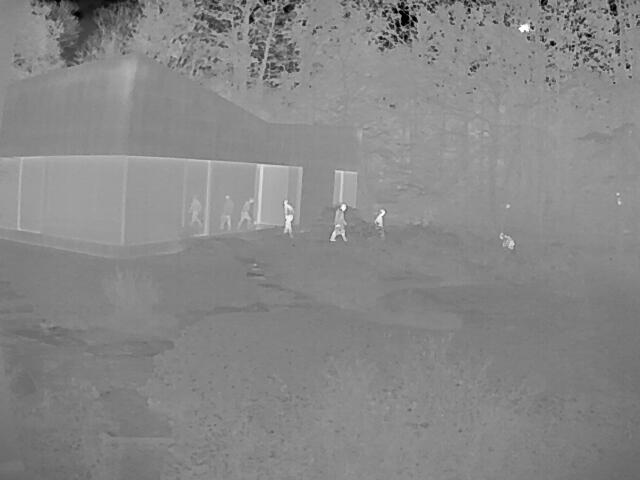person: (328, 202, 346, 243), (280, 199, 294, 239), (236, 196, 254, 226), (217, 193, 230, 229), (372, 207, 386, 240), (185, 196, 200, 226)
